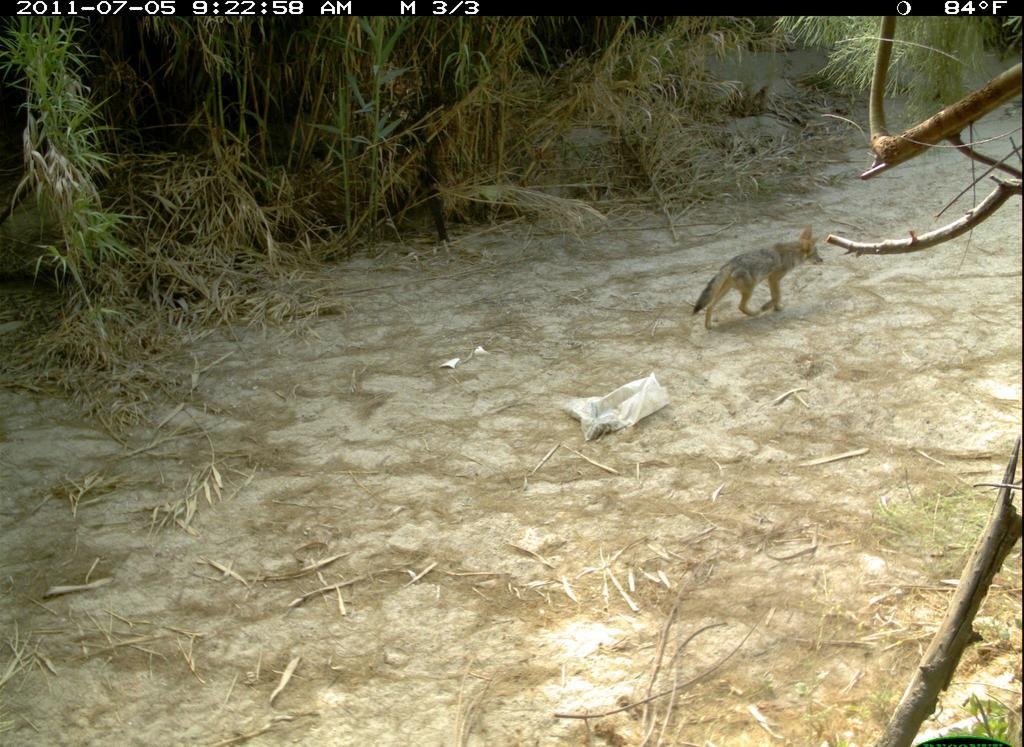coyote: (680, 221, 834, 338)
